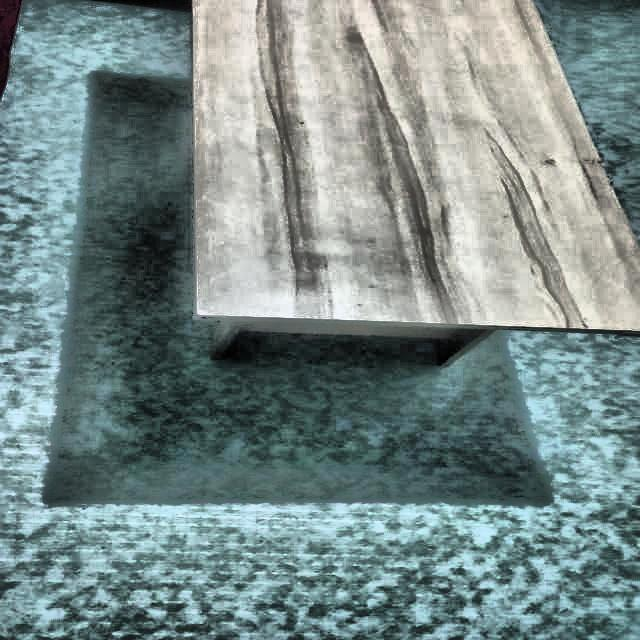mesa: (188, 0, 640, 381)
